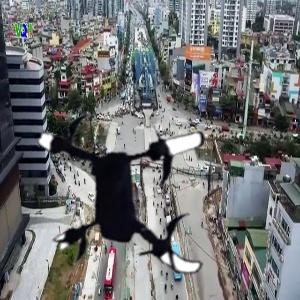drone: (29, 85, 243, 299)
